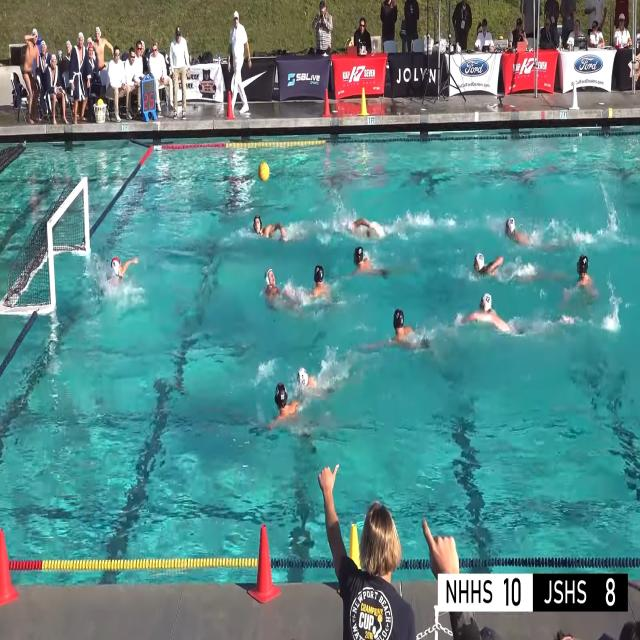ball: (258, 162, 270, 182), (97, 99, 104, 105)
